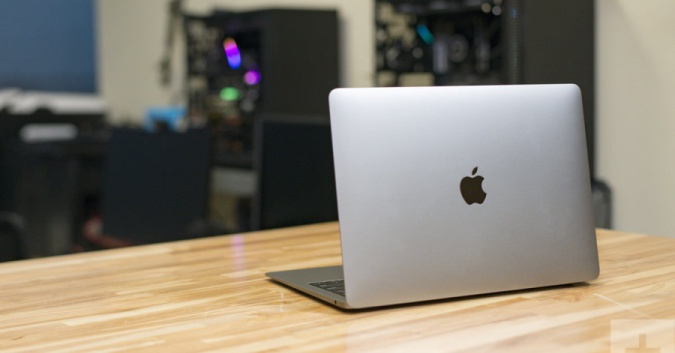apple: (448, 156, 502, 227)
